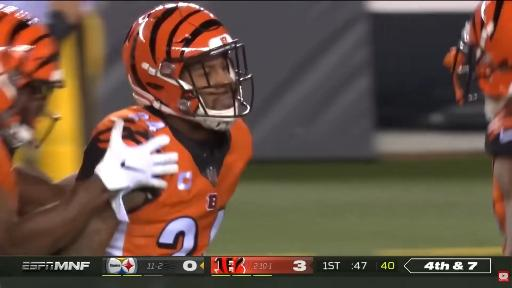Helmet: (123, 3, 253, 130), (0, 5, 62, 147), (444, 1, 511, 105)
Jersey: (78, 107, 252, 255), (485, 102, 511, 169), (0, 141, 18, 210)
Player: (63, 3, 253, 255), (0, 5, 177, 255), (445, 1, 511, 255)
